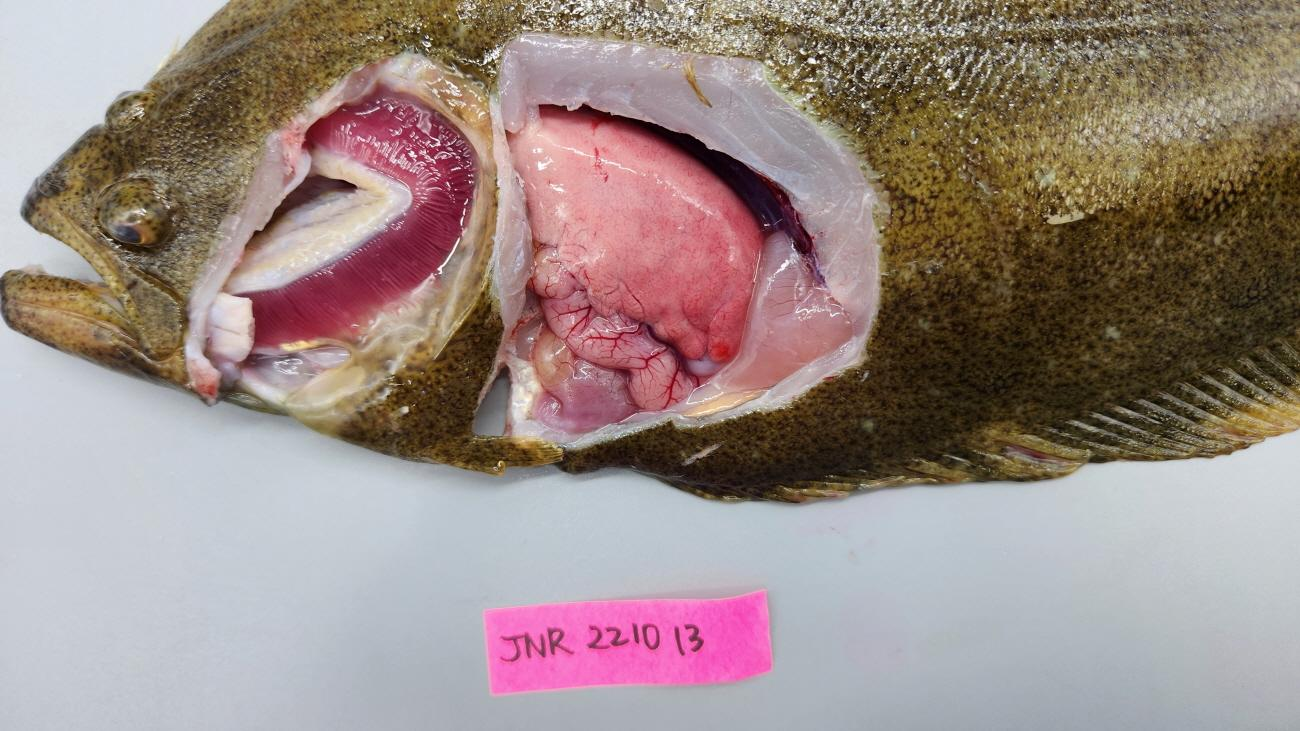POLIN: (510, 107, 763, 365)
